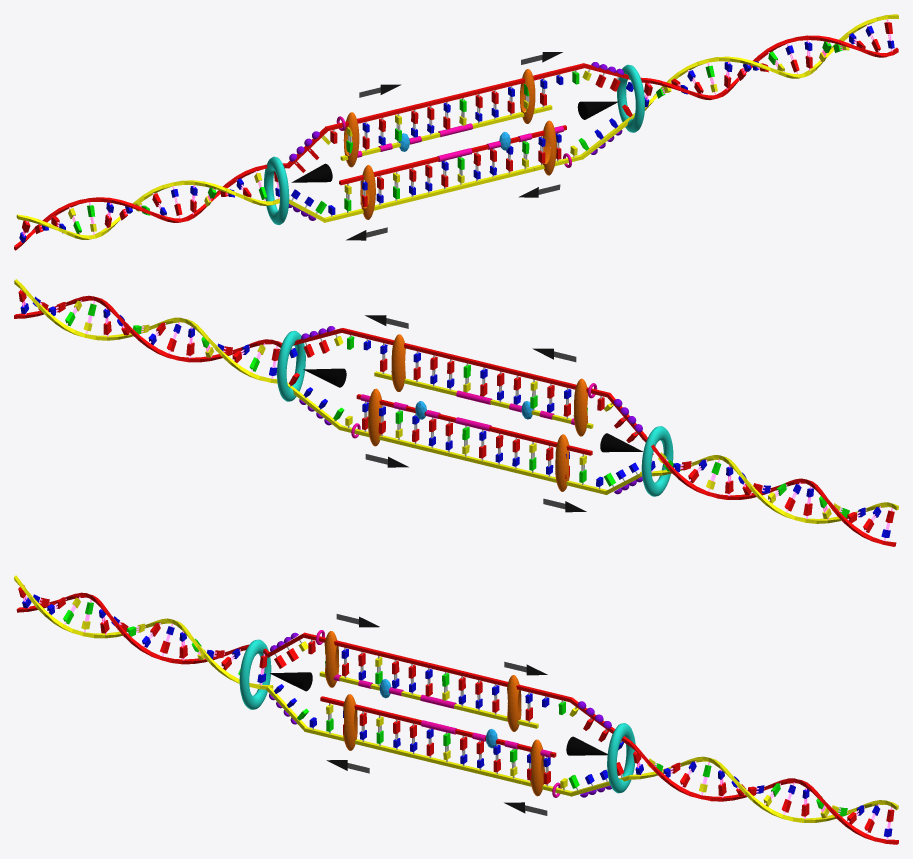
The model's file is dna-repli.glb.
The picture shows the model from 3 angles, top to bottom: view 1: azimuth 30°, elevation 25°; view 2: azimuth 150°, elevation 25°; view 3: azimuth 330°, elevation 25°; orthographic projection. The views are drawn at different scales.
Visible parts, largest first — view 1: DNA, DNA.001, Torus.002, Torus, Sphere.021, Sphere.020, Sphere.023, Sphere.022; view 2: DNA, DNA.001, Torus.002, Torus, Sphere.020, Sphere.022, Sphere.023, Sphere.021; view 3: DNA, DNA.001, Torus, Torus.002, Sphere.023, Sphere.020, Sphere.022, Sphere.021.
Part boxes in pixels (box(x1,y1,x2,y2)): DNA: box(641, 14, 898, 110); DNA.001: box(14, 163, 287, 250); Torus.002: box(264, 156, 289, 224); Torus: box(617, 64, 644, 132); Sphere.021: box(542, 120, 556, 175); Sphere.020: box(520, 69, 535, 123); Sphere.023: box(360, 165, 375, 219); Sphere.022: box(343, 112, 359, 167); DNA: box(14, 279, 282, 383); DNA.001: box(639, 435, 898, 546); Torus.002: box(641, 426, 673, 496); Torus: box(277, 330, 305, 401); Sphere.020: box(391, 334, 405, 391); Sphere.022: box(573, 378, 587, 436); Sphere.023: box(555, 434, 569, 491); Sphere.021: box(368, 388, 381, 446); DNA: box(629, 741, 898, 844); DNA.001: box(14, 575, 273, 689); Torus: box(607, 723, 635, 793); Torus.002: box(239, 639, 271, 709); Sphere.023: box(343, 694, 357, 750); Sphere.020: box(507, 675, 521, 731); Sphere.022: box(324, 631, 339, 687); Sphere.021: box(530, 739, 544, 796).
Bounding box in the file's own units: 53.62 × 9.1 × 3.73.
